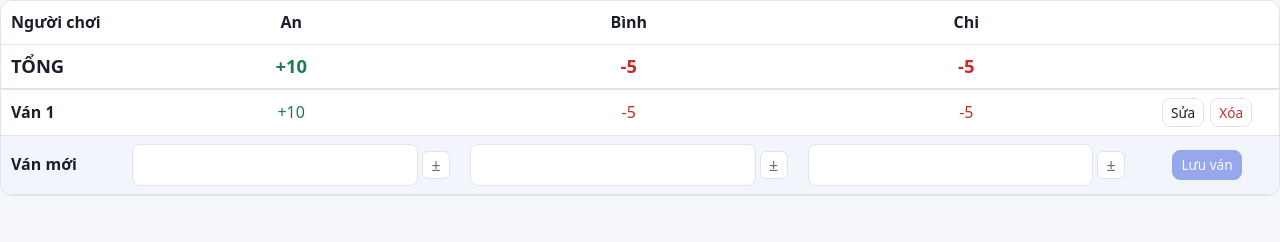
ScoreTable new round row › explains an unbalanced round and keeps Save disabled
Step 1. Type "10" into the field named "Ván mới, điểm An" → (275, 165), box 132,144 -> 418,186
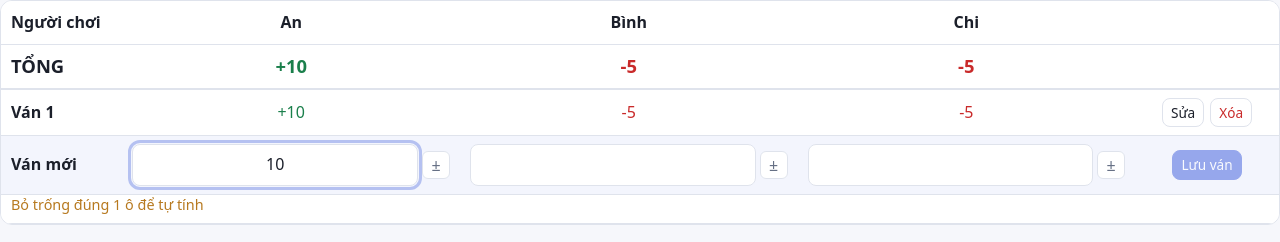
Step 2. Type "-4" into the field named "Ván mới, điểm Bình" → (613, 165), box 470,144 -> 756,186
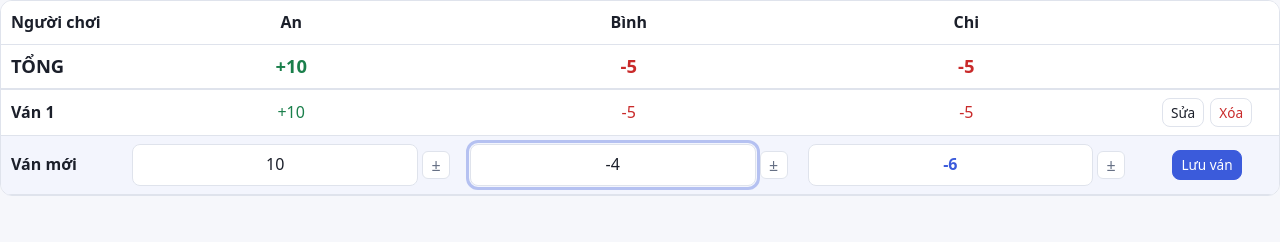
Step 3. Type "-5" into the field with placeholder "-6" → (950, 165), box 808,144 -> 1093,186
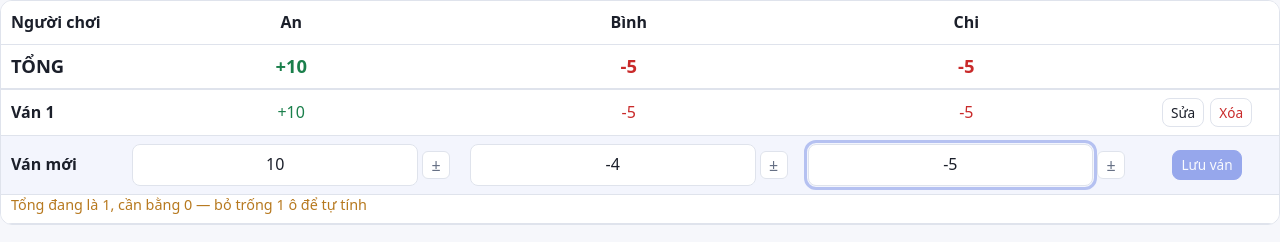
Result: the text "Tổng đang là 1, cần bằng 0 — bỏ trống 1 ô để tự tính" is shown at 11,195 -> 367,214
Result: the button "Lưu ván" is disabled at 1172,150 -> 1242,180
